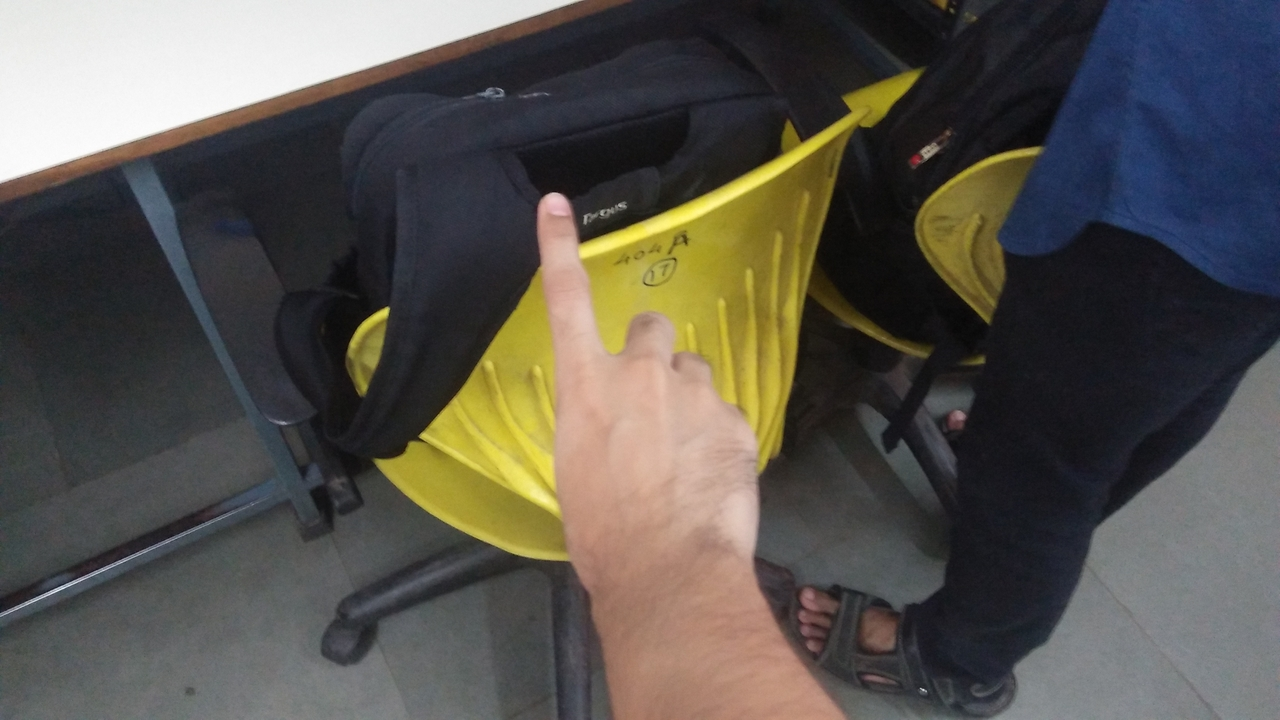fingertip: (522, 182, 582, 236)
